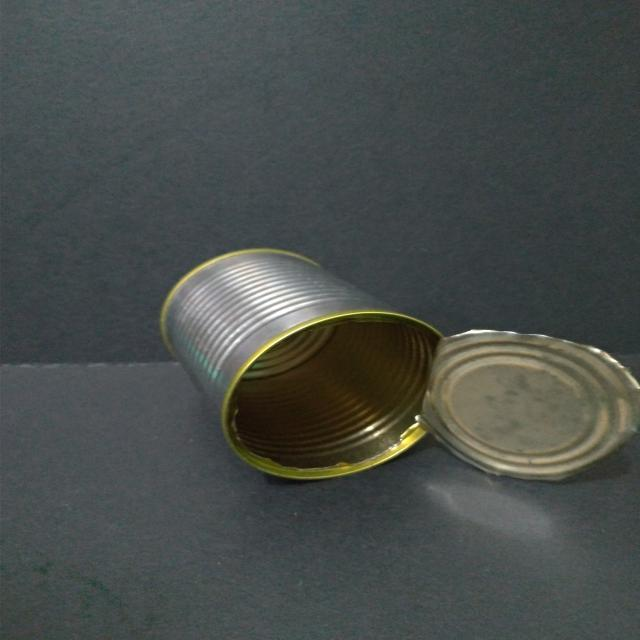metal-can: (153, 243, 640, 488)
